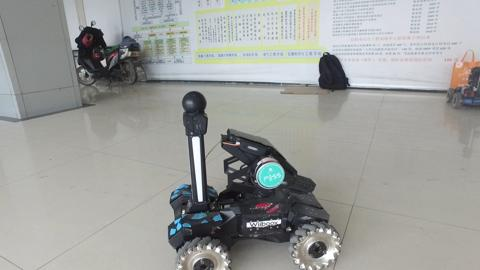bag: (315, 48, 352, 93), (450, 46, 479, 89)
chariot: (165, 89, 342, 270), (443, 63, 479, 109)
